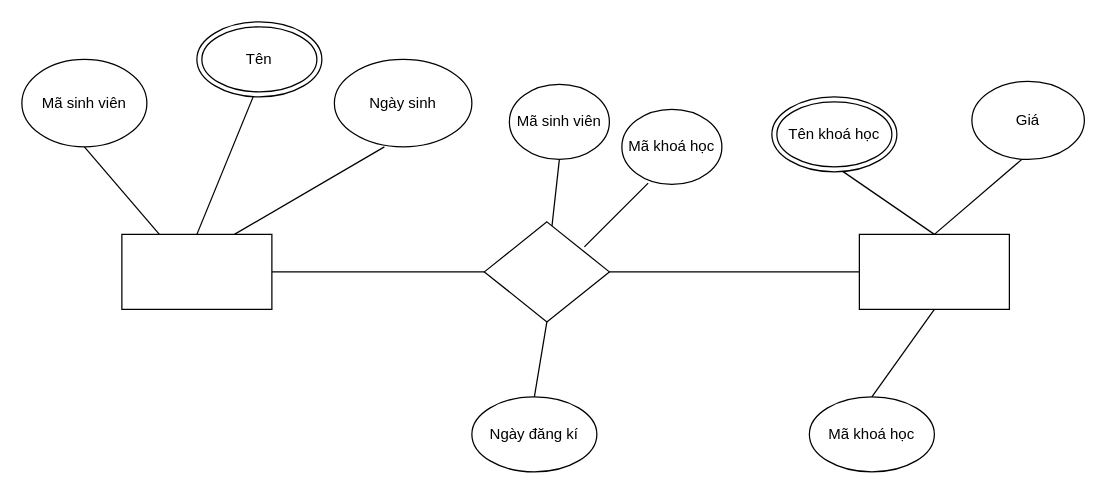
Some shapes in this 1106 by 494 pixel diagram are drawn without their labels. Here are the shapes that lost their labels. From the top down, the centre of each, then its label:
At pixel 196 271: "sinh viên".
At pixel 546 271: "Enrollment".
At pixel 933 271: "Course".
